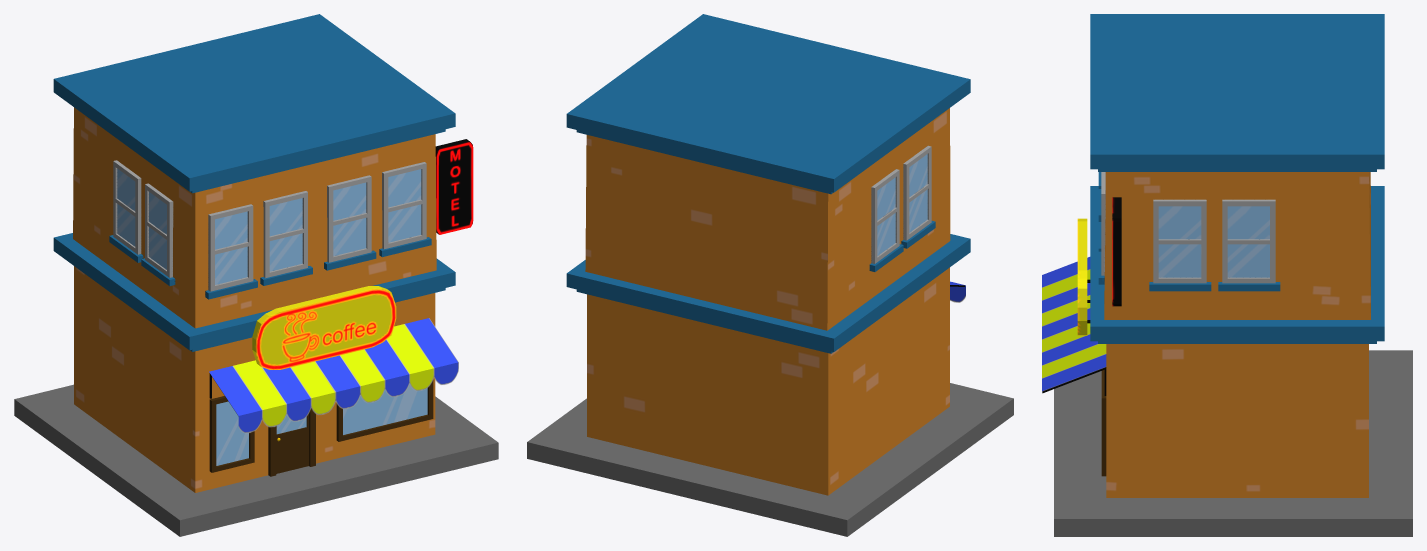
File: building_cartoon__low_poly.glb
3 views of the same model, side by side, from view 1: azimuth 30°, elevation 25°; view 2: azimuth 150°, elevation 25°; view 3: azimuth 270°, elevation 25° (orthographic). The views are drawn at different scales.
Parts seen in each view (by area): view 1: polySurface5; view 2: polySurface5; view 3: polySurface5.
Boxes of the visible parts, x1,y1,x2,y2 form: polySurface5: (14,14,498,536); polySurface5: (527,14,1013,536); polySurface5: (1042,14,1412,536).
Size of the model in its own units: 1.97 by 2 by 1.82.
Materials: 1 (1 with a texture image).
